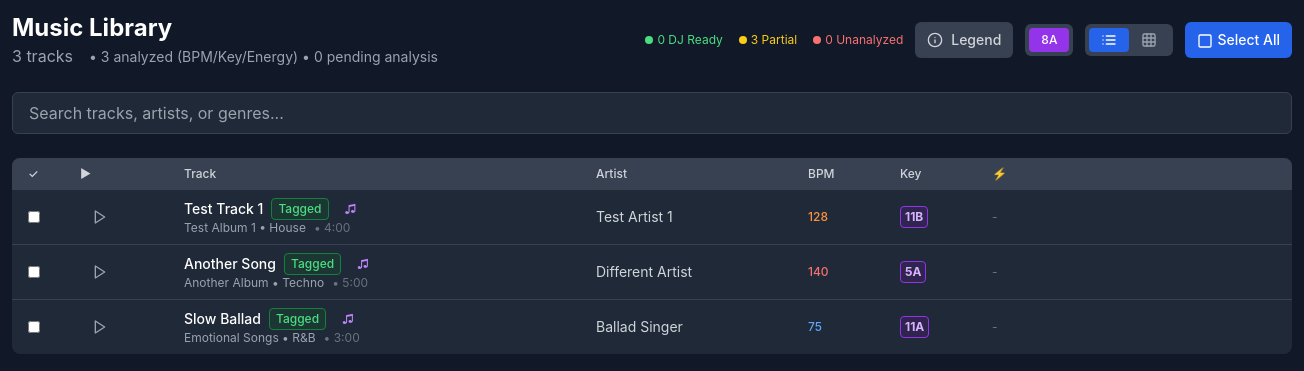
Test: LibraryView Component › Search and Filtering › filters tracks by artist
Expected: the text "Different Artist" is shown, [596, 263, 692, 280]
Type "Different" into the field with placeholder "Search tracks, artists, or genres...".
click(652, 113); type("Different")  # box [12, 92, 1292, 134]
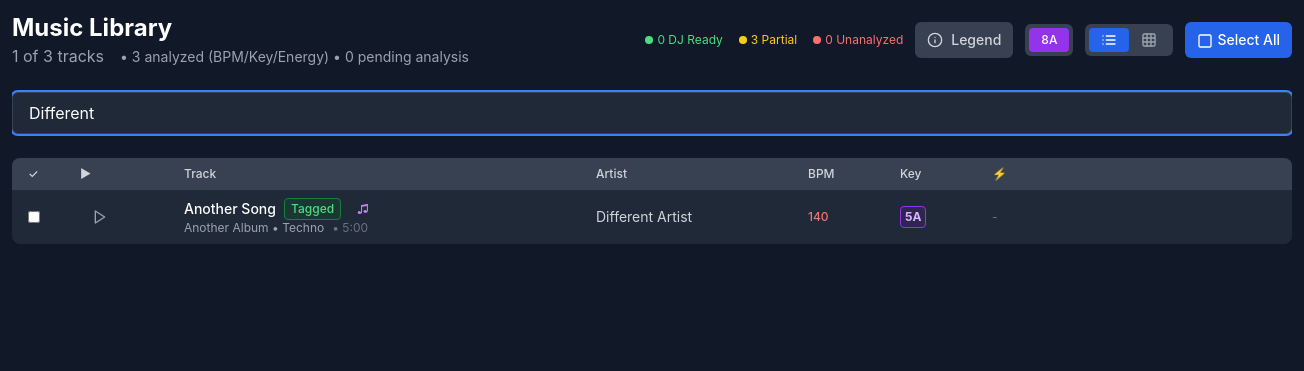
Expected: the text "Another Song" is shown, [184, 200, 276, 217]
Now the text "Test Track 1" is gone
